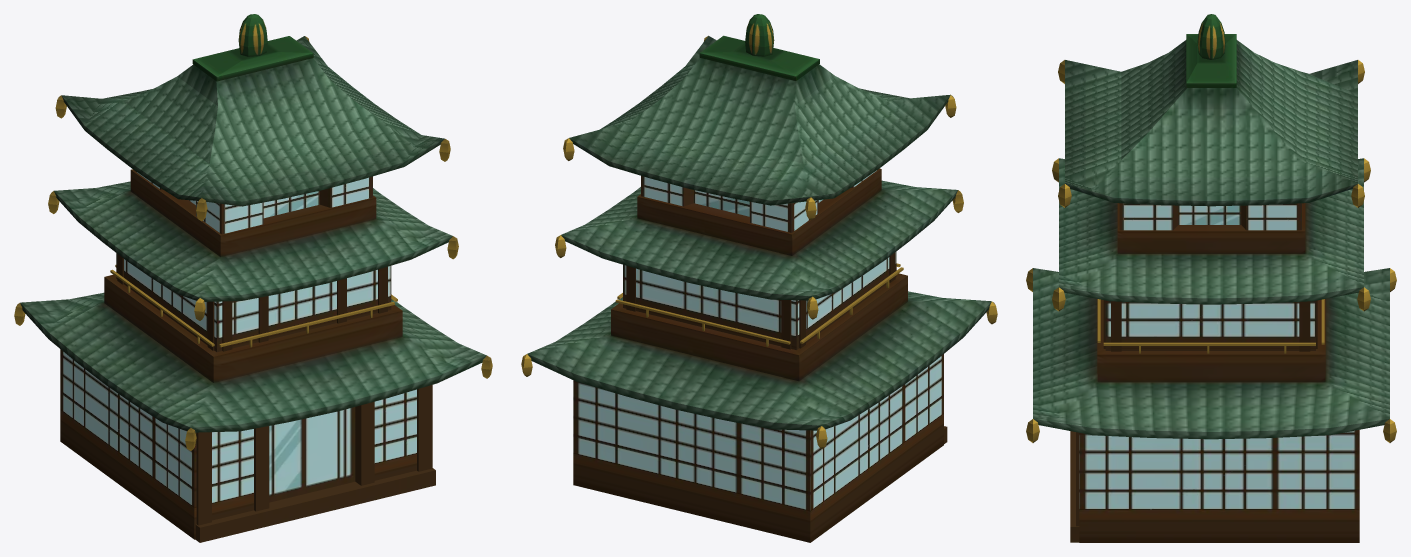
The model's file is japanese_house_02.glb.
3 renders of one model, left to right at view 1: azimuth 30°, elevation 25°; view 2: azimuth 150°, elevation 25°; view 3: azimuth 270°, elevation 25°, orthographic. The views are drawn at different scales.
Visible parts, largest first — view 1: Japanese__h02; view 2: Japanese__h02; view 3: Japanese__h02.
Boxes of the visible parts, <box> form: Japanese__h02: <box>14,14,492,542</box>; Japanese__h02: <box>521,14,997,542</box>; Japanese__h02: <box>1026,14,1396,542</box>.
Size of the model in its own units: 9.04 by 12.64 by 9.04.
Materials: 1 (1 with a texture image).
